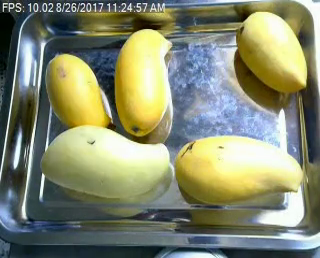Mango: (40, 125, 169, 198), (174, 136, 301, 203), (236, 9, 309, 94), (115, 28, 171, 135), (43, 51, 110, 136)
